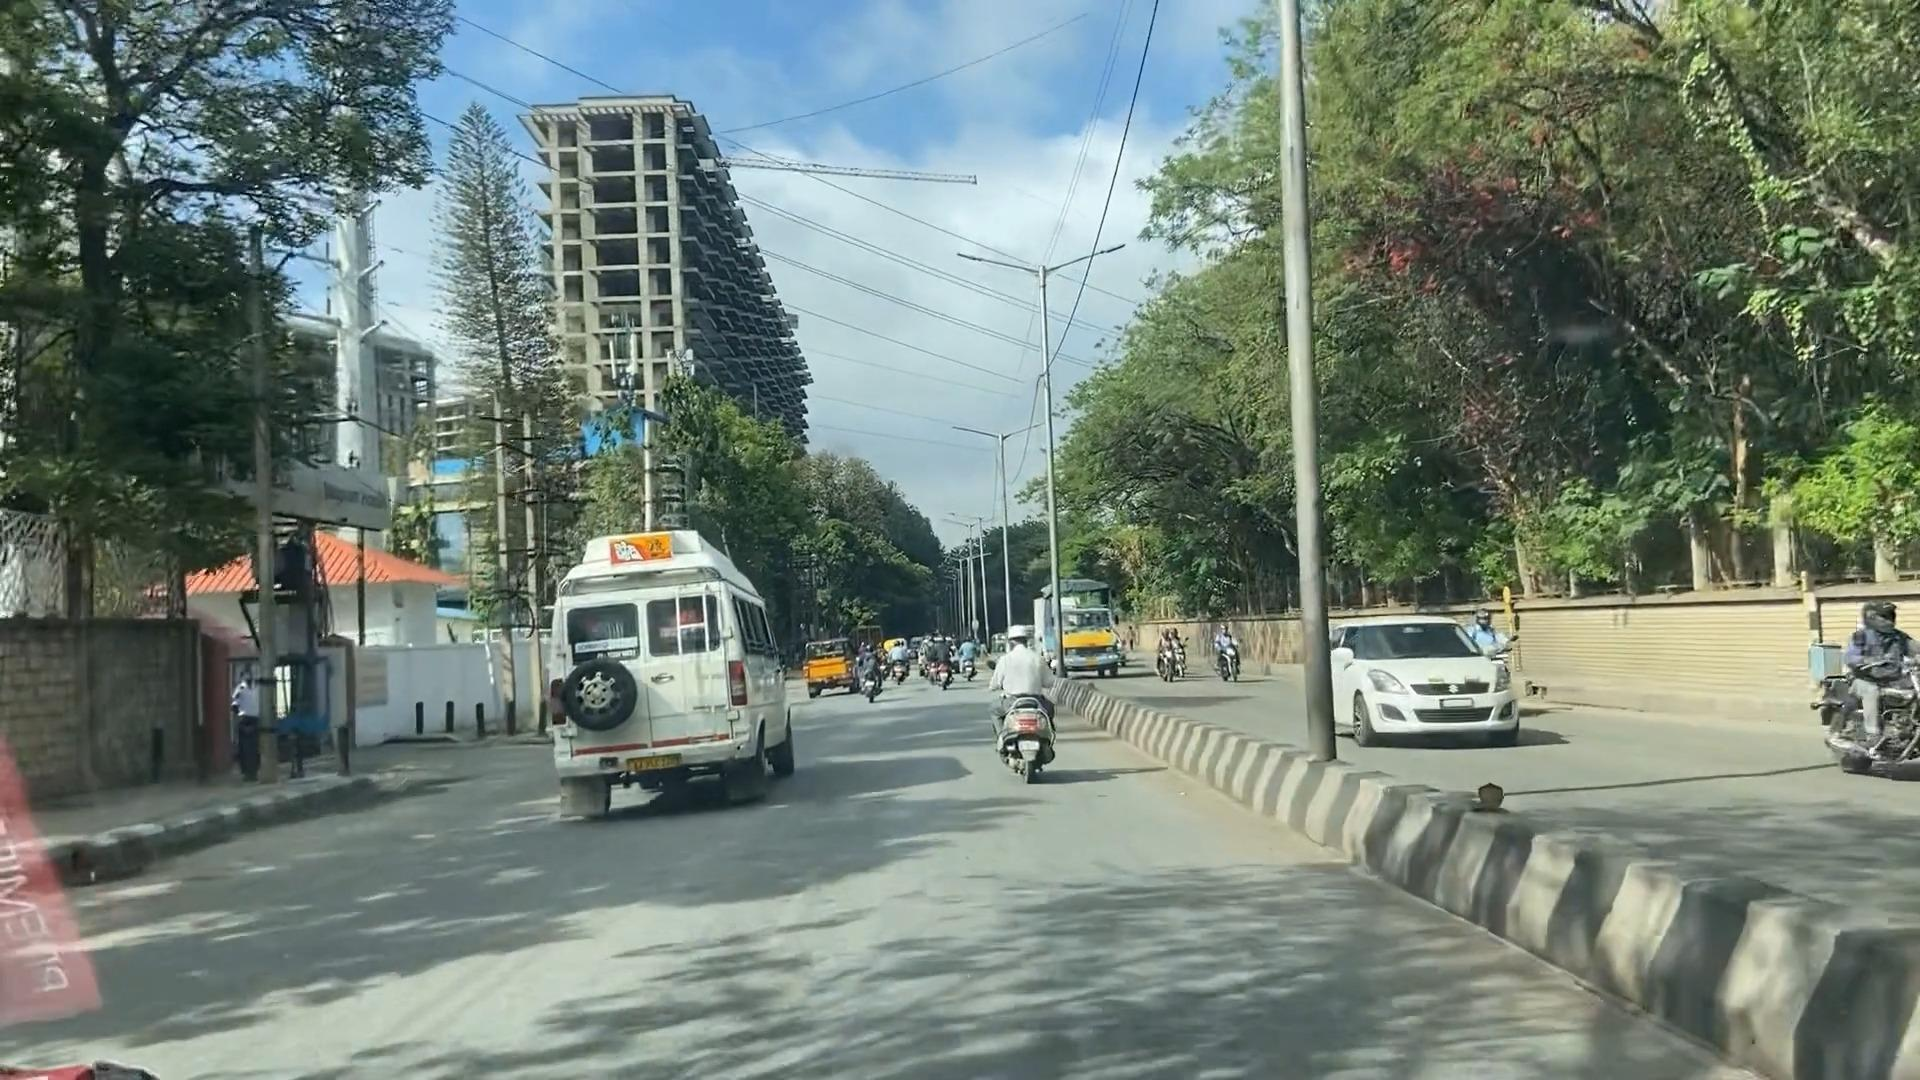HMV: (493, 498, 798, 804)
LMV: (982, 630, 1075, 802)
